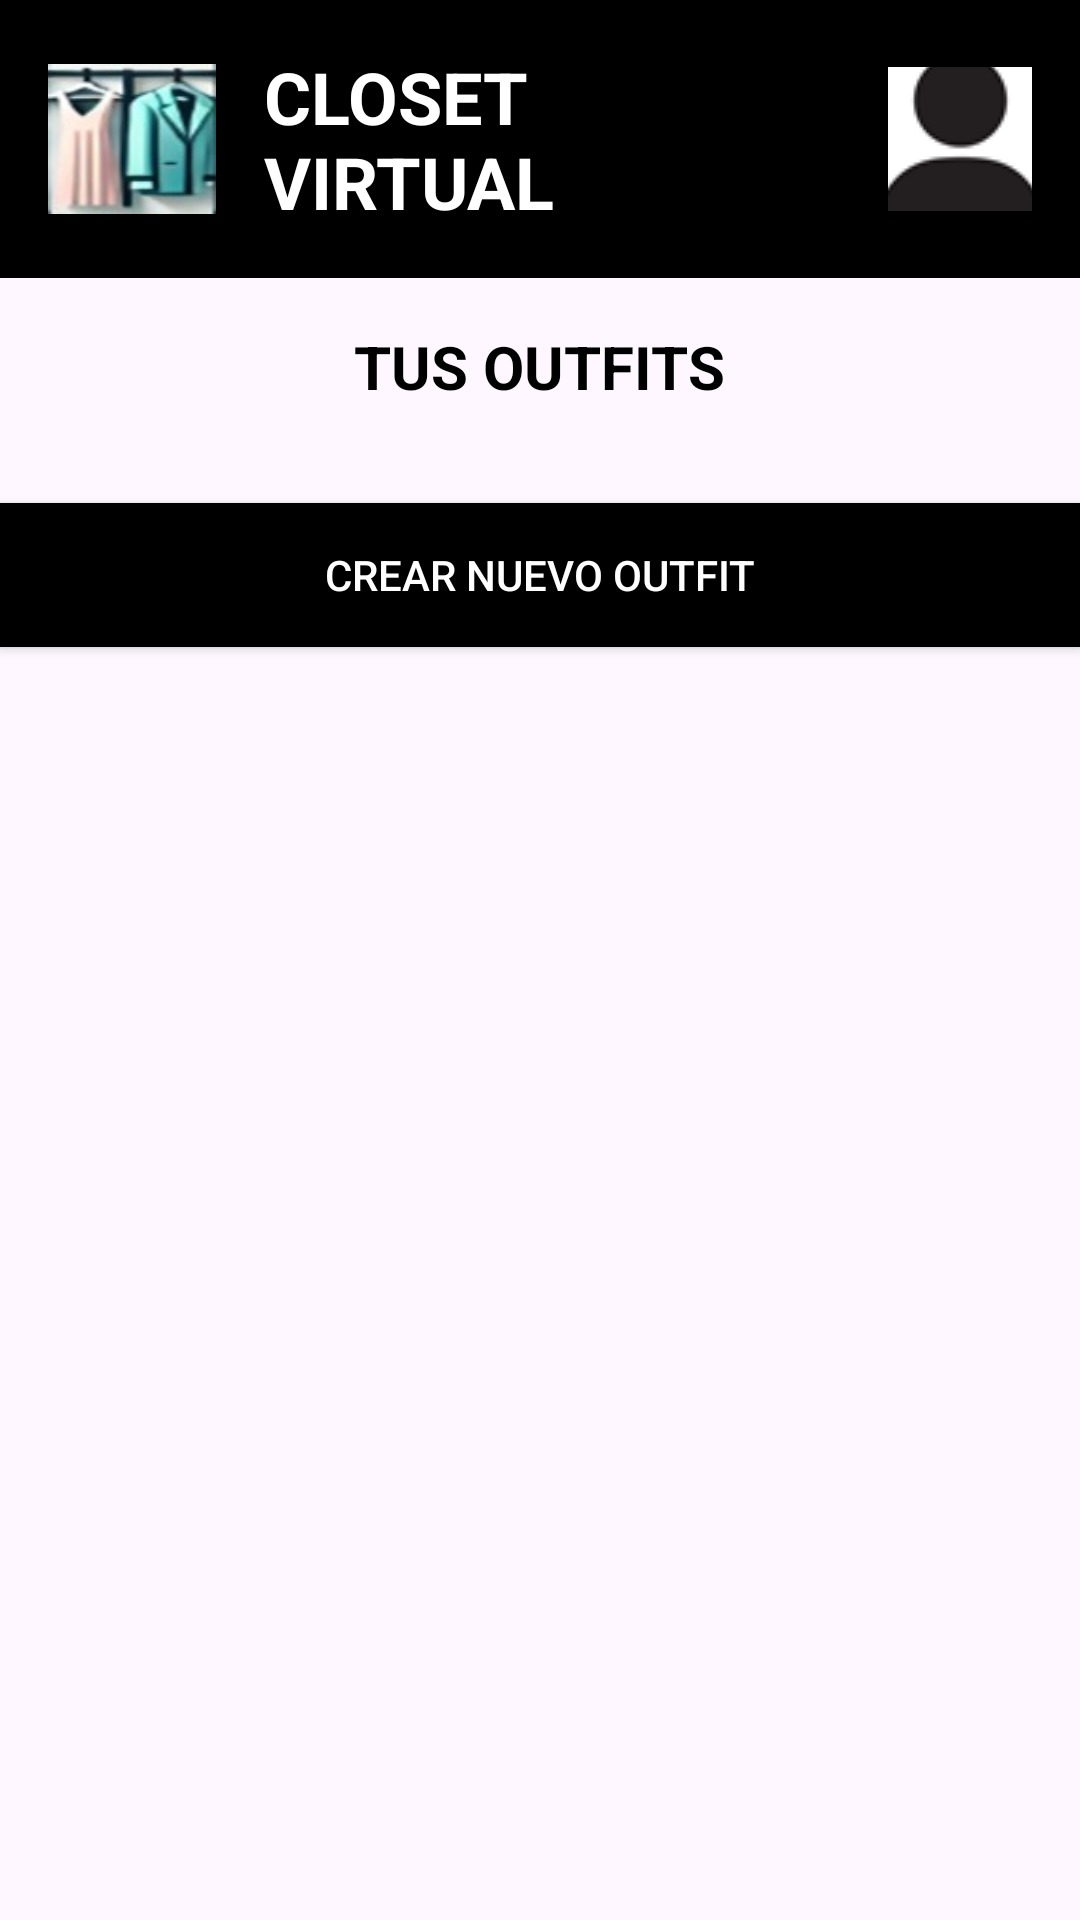

Named icons in this screenshot (1080w x 1920h) and their bounding boxes, (x1, y1, x2, y2):
Usuario: (888, 67, 1032, 211)
